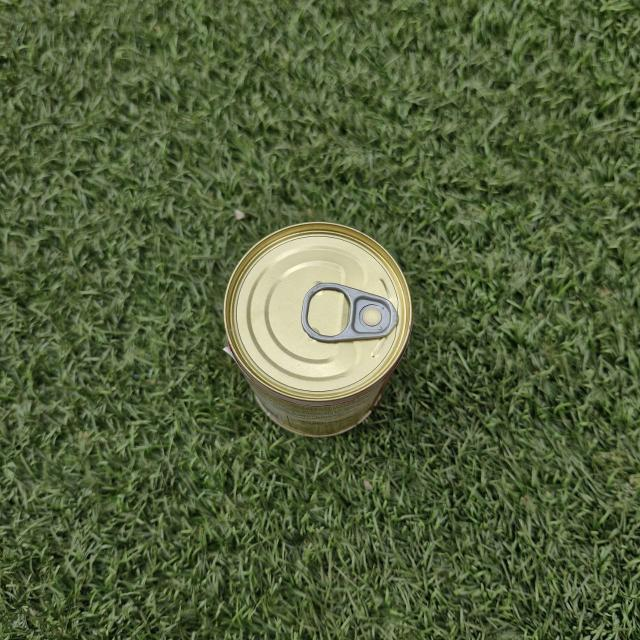metal: (212, 216, 420, 446)
